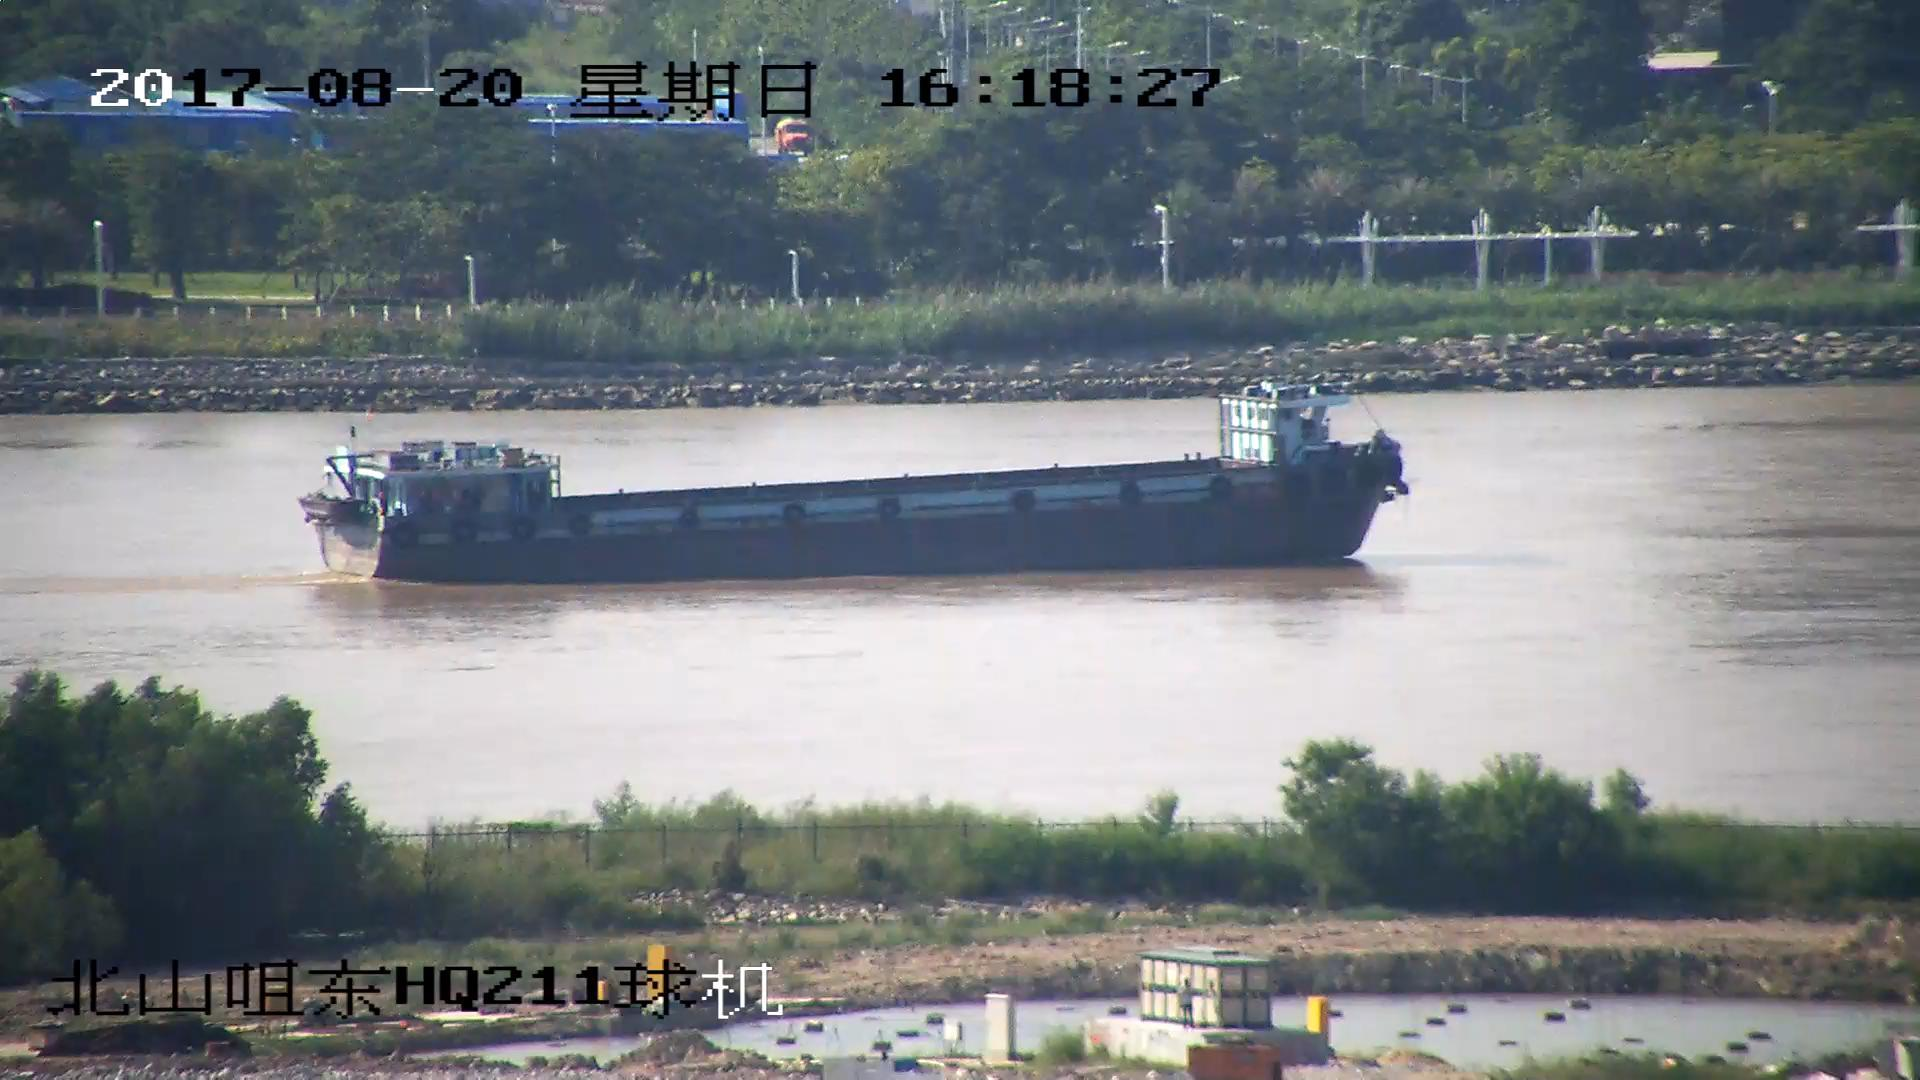Ship: (318, 386, 1410, 582)
